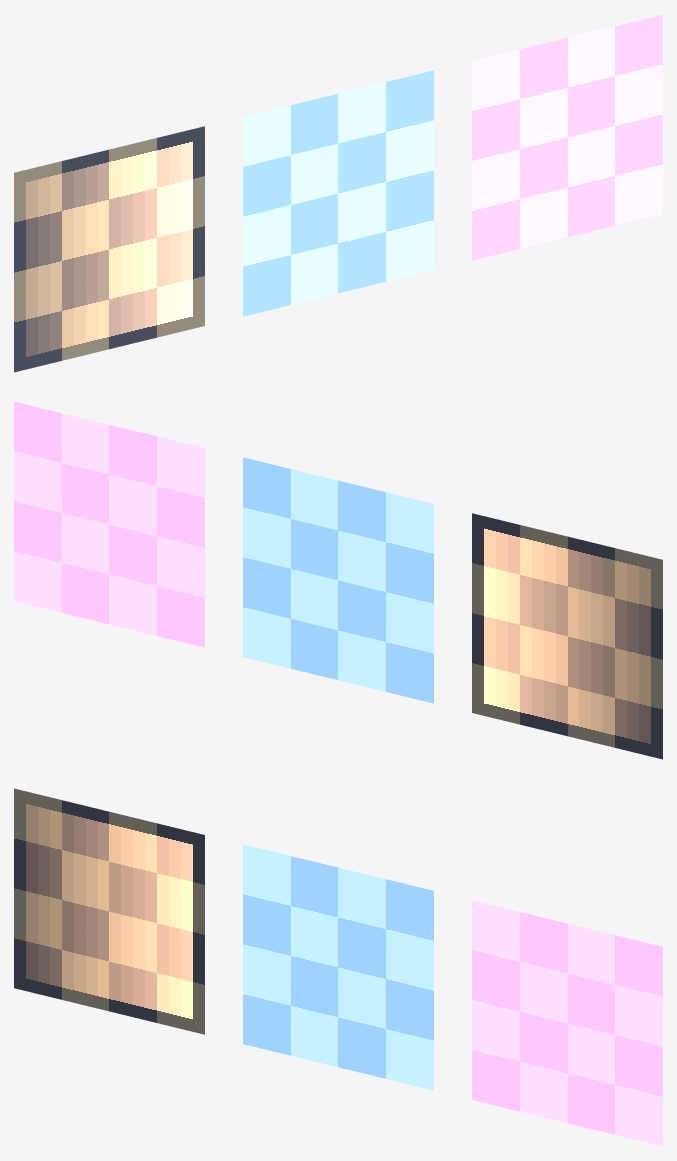
The picture shows the model from 3 angles, top to bottom: view 1: azimuth 30°, elevation 25°; view 2: azimuth 150°, elevation 25°; view 3: azimuth 330°, elevation 25°; orthographic projection.
Visible parts, largest first — view 1: card-textured, card-proportional, card-constant; view 2: card-textured, card-proportional, card-constant; view 3: card-textured, card-proportional, card-constant.
Part boxes in pixels (x1=…): card-textured: x1=14, y1=126, x2=204, y2=372; card-proportional: x1=472, y1=14, x2=662, y2=260; card-constant: x1=243, y1=70, x2=433, y2=316; card-textured: x1=472, y1=513, x2=662, y2=759; card-proportional: x1=14, y1=401, x2=204, y2=647; card-constant: x1=243, y1=457, x2=433, y2=703; card-textured: x1=14, y1=788, x2=204, y2=1034; card-proportional: x1=472, y1=900, x2=662, y2=1146; card-constant: x1=243, y1=844, x2=433, y2=1090.
Size of the model in its own units: 3.4 by 1 by 0.
Materials: 3 (3 with a texture image).
